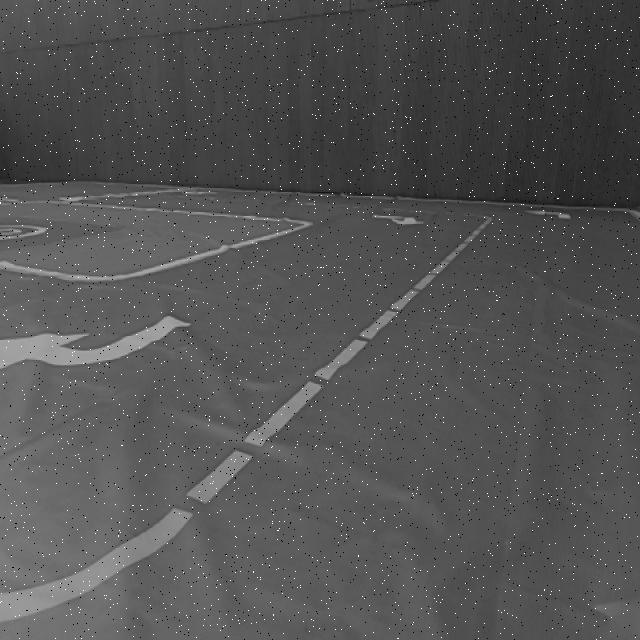left_lane: (148, 218, 495, 539)
